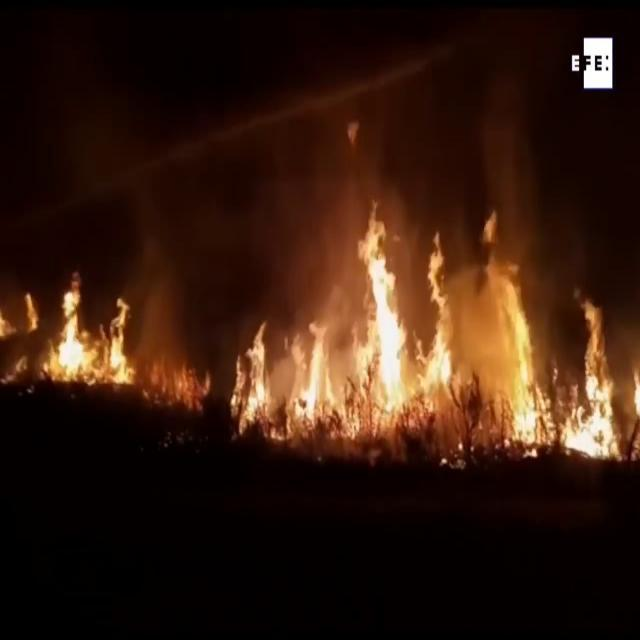Fire: (251, 190, 638, 460), (0, 276, 144, 394), (556, 308, 640, 464)
